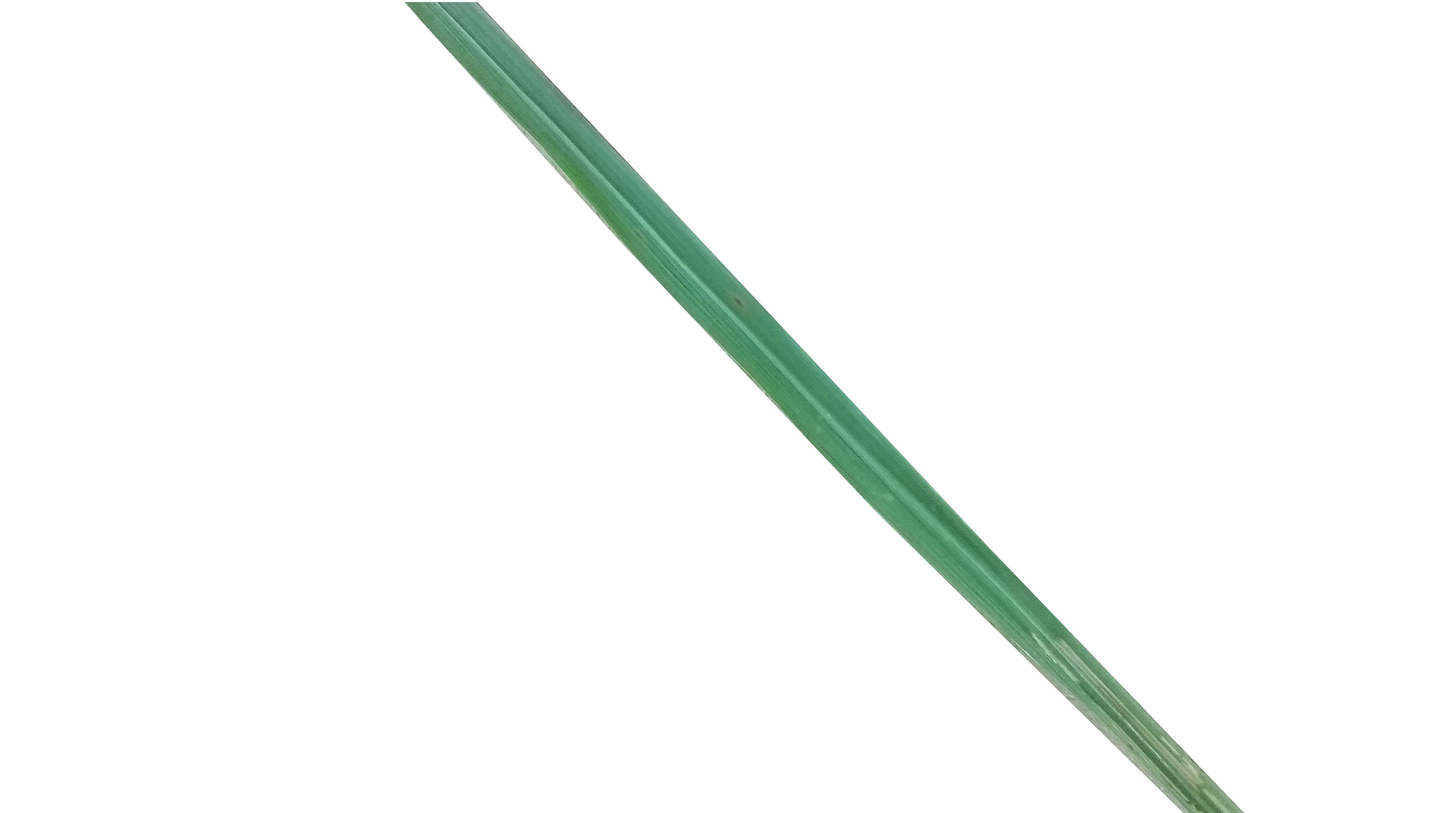Brown spot: (726, 288, 745, 315)
